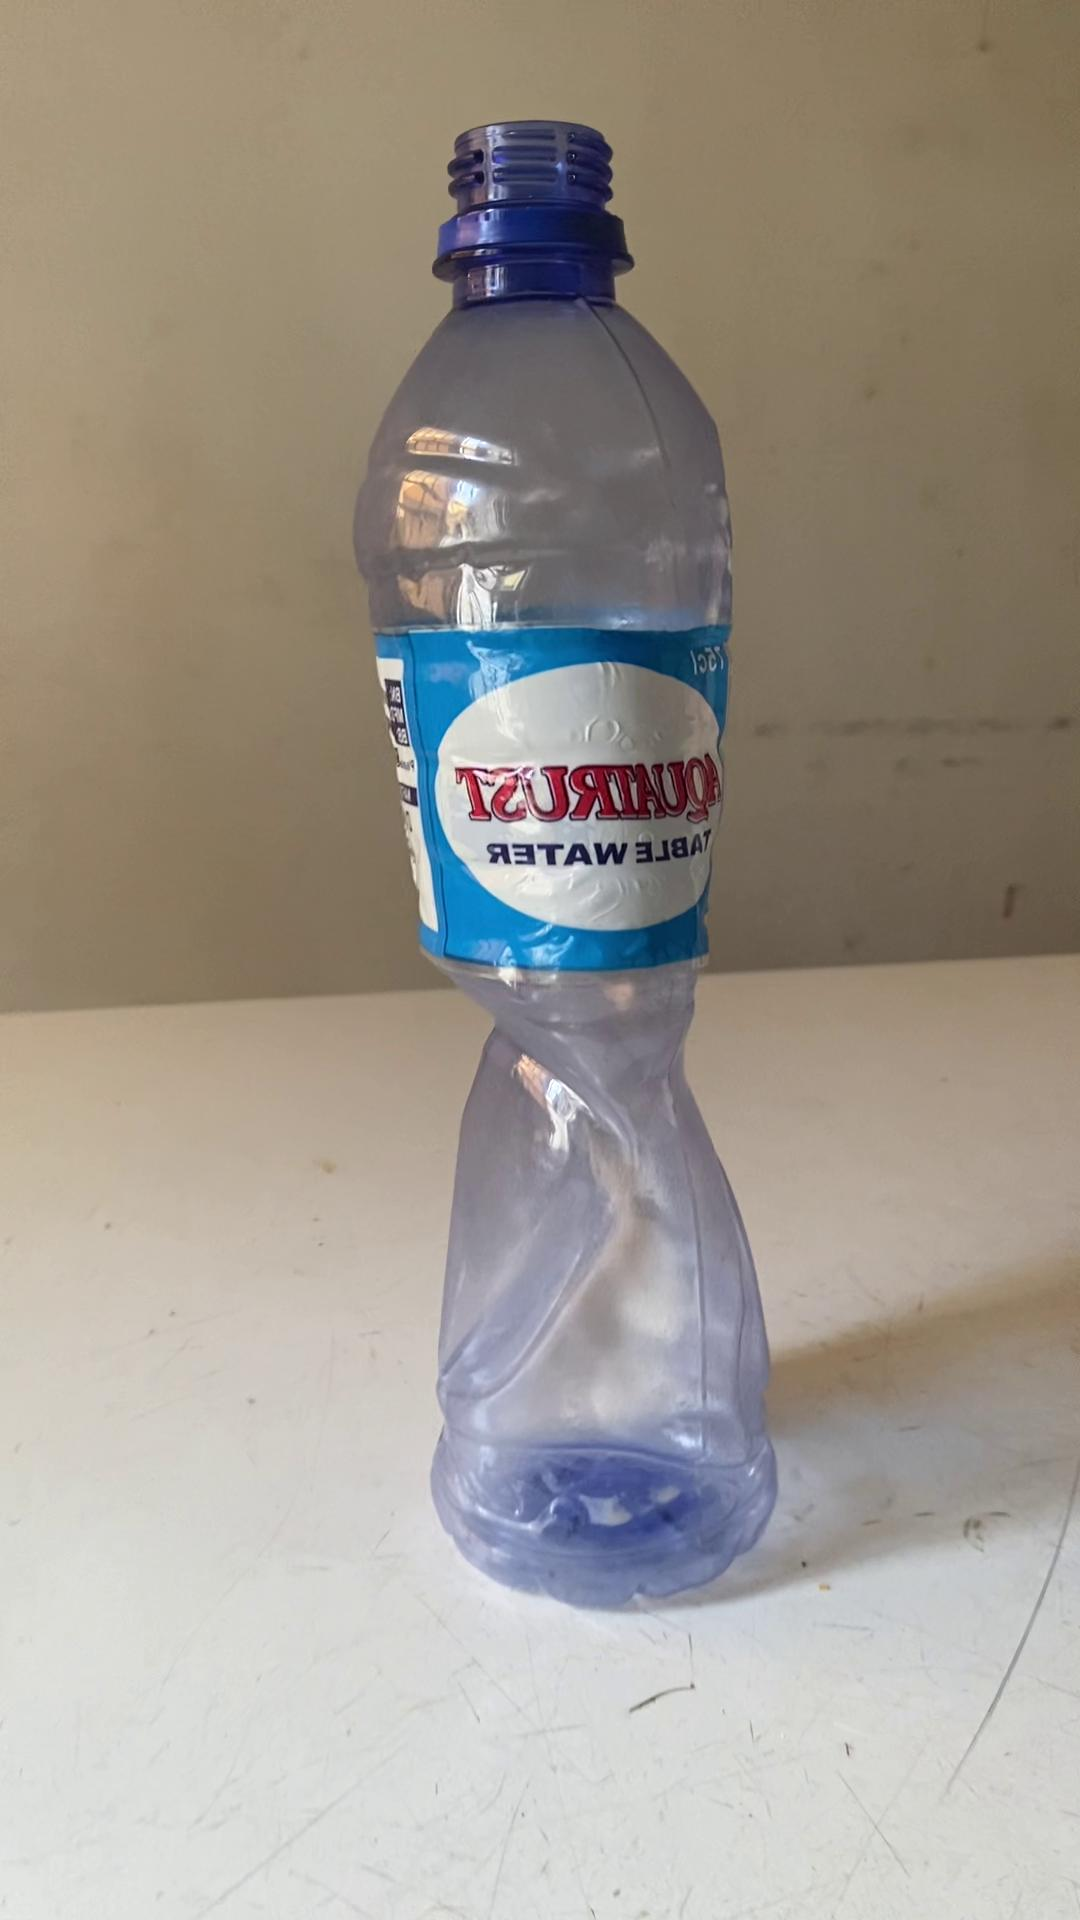crumbled: (336, 109, 786, 1607)
label: (378, 624, 732, 963)
no-cap: (421, 112, 640, 261)
